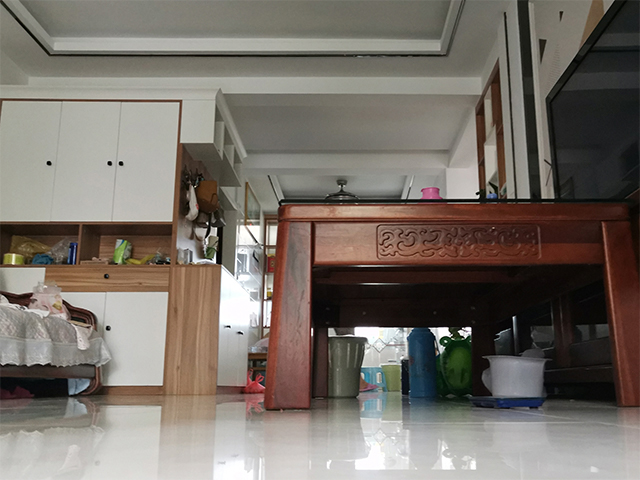cabinet: (105, 263, 260, 399)
slippers: (1, 384, 38, 399)
sofa: (1, 285, 108, 397)
table: (262, 195, 640, 414)
trashcan: (323, 335, 371, 399)
